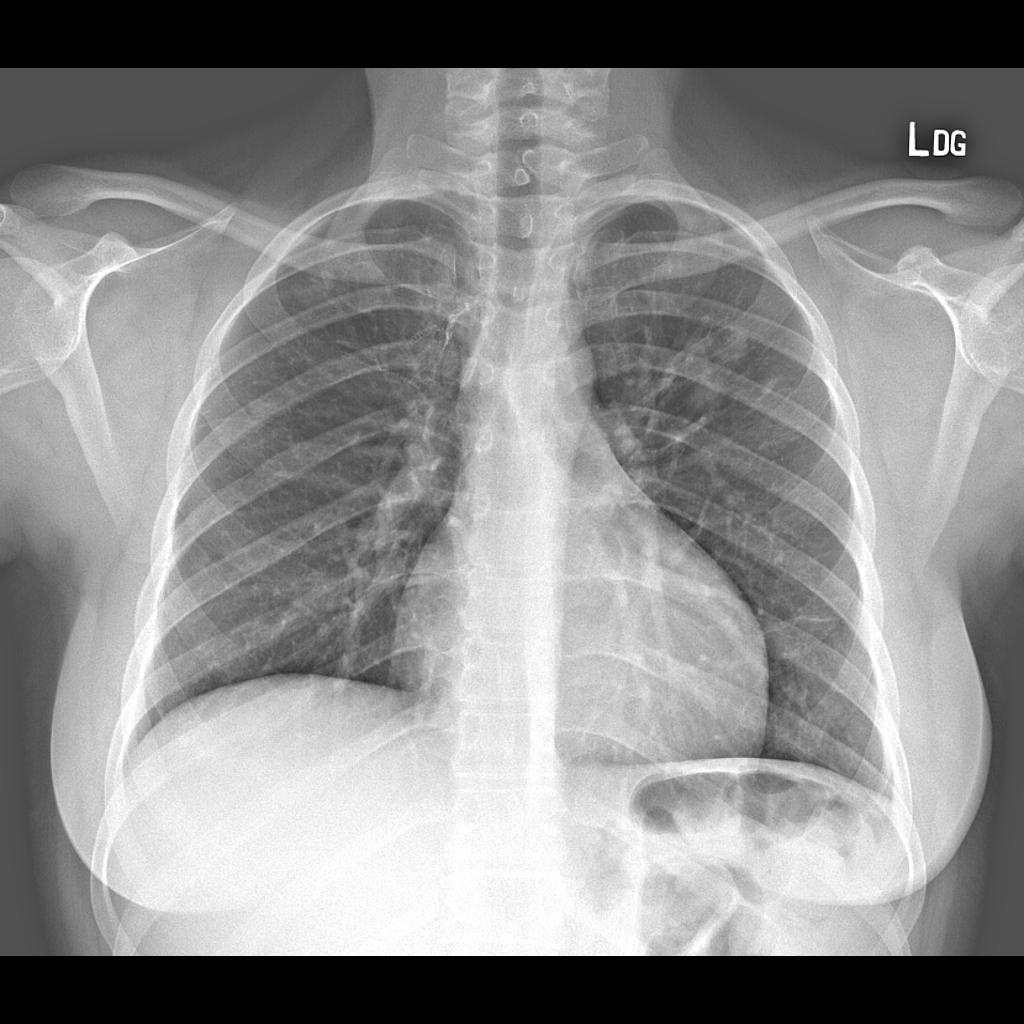Nodule: (683, 320, 752, 407)
